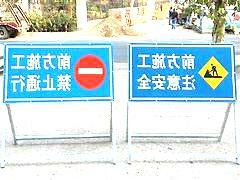sign: (4, 43, 113, 99), (129, 45, 237, 101)
